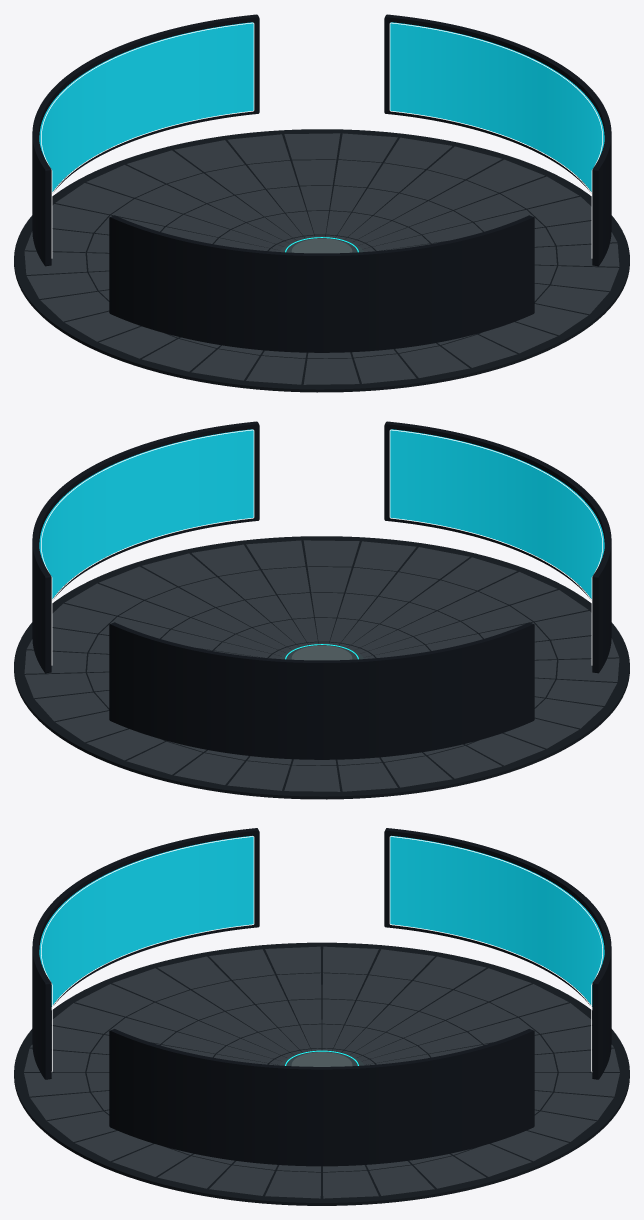
The model's file is panoramic_command_theater_architecture.glb.
The picture shows the model from 3 angles, top to bottom: view 1: azimuth 30°, elevation 25°; view 2: azimuth 150°, elevation 25°; view 3: azimuth 270°, elevation 25°; orthographic projection.
Parts seen in each view (by area): view 1: Wall_Screen_3_Frame, Wall_Screen_1, Wall_Screen_2, Room_Floor_Base, Wall_Screen_1_Frame, Wall_Screen_2_Frame, Floor_Tile_R04_S21, Floor_Tile_R04_S05, Floor_Tile_R04_S28, Floor_Tile_R04_S01, Floor_Tile_R04_S09, Floor_Tile_R04_S10 (+53 smaller); view 2: Wall_Screen_2_Frame, Wall_Screen_1, Wall_Screen_3, Room_Floor_Base, Wall_Screen_1_Frame, Wall_Screen_3_Frame, Floor_Tile_R04_S10, Floor_Tile_R04_S26, Floor_Tile_R04_S03, Floor_Tile_R04_S04, Floor_Tile_R04_S17, Floor_Tile_R04_S21 (+53 smaller); view 3: Wall_Screen_1_Frame, Wall_Screen_2, Wall_Screen_3, Room_Floor_Base, Wall_Screen_2_Frame, Wall_Screen_3_Frame, Floor_Tile_R04_S06, Floor_Tile_R04_S11, Floor_Tile_R04_S20, Floor_Tile_R04_S25, Floor_Tile_R04_S03, Floor_Tile_R04_S28 (+53 smaller).
Boxes of the visible parts, bbox=[...] form: Wall_Screen_3_Frame: bbox=[109, 215, 534, 352]; Wall_Screen_1: bbox=[390, 22, 604, 191]; Wall_Screen_2: bbox=[39, 22, 253, 191]; Room_Floor_Base: bbox=[14, 129, 629, 392]; Wall_Screen_1_Frame: bbox=[384, 14, 611, 266]; Wall_Screen_2_Frame: bbox=[32, 14, 259, 266]; Floor_Tile_R04_S21: bbox=[303, 358, 359, 384]; Floor_Tile_R04_S05: bbox=[284, 133, 340, 159]; Floor_Tile_R04_S28: bbox=[551, 266, 618, 291]; Floor_Tile_R04_S01: bbox=[467, 159, 544, 192]; Floor_Tile_R04_S09: bbox=[87, 165, 164, 197]; Floor_Tile_R04_S10: bbox=[55, 183, 132, 214]; Wall_Screen_2_Frame: bbox=[109, 622, 534, 759]; Wall_Screen_1: bbox=[39, 429, 253, 598]; Wall_Screen_3: bbox=[390, 429, 604, 598]; Room_Floor_Base: bbox=[14, 536, 629, 799]; Wall_Screen_1_Frame: bbox=[32, 421, 259, 673]; Wall_Screen_3_Frame: bbox=[384, 421, 611, 673]; Floor_Tile_R04_S10: bbox=[284, 765, 340, 791]; Floor_Tile_R04_S26: bbox=[303, 540, 359, 566]; Floor_Tile_R04_S03: bbox=[25, 673, 92, 698]; Floor_Tile_R04_S04: bbox=[35, 692, 108, 721]; Floor_Tile_R04_S17: bbox=[547, 679, 616, 705]; Floor_Tile_R04_S21: bbox=[511, 590, 588, 621]; Wall_Screen_1_Frame: bbox=[109, 1029, 534, 1166]; Wall_Screen_2: bbox=[390, 835, 604, 1006]; Wall_Screen_3: bbox=[39, 835, 253, 1006]; Room_Floor_Base: bbox=[14, 942, 629, 1205]; Wall_Screen_2_Frame: bbox=[384, 828, 611, 1079]; Wall_Screen_3_Frame: bbox=[32, 828, 259, 1079]; Floor_Tile_R04_S06: bbox=[541, 1092, 613, 1120]; Floor_Tile_R04_S11: bbox=[490, 984, 568, 1016]; Floor_Tile_R04_S20: bbox=[75, 984, 153, 1016]; Floor_Tile_R04_S25: bbox=[30, 1092, 102, 1120]; Floor_Tile_R04_S03: bbox=[454, 1144, 531, 1176]; Floor_Tile_R04_S28: bbox=[112, 1144, 189, 1176].
Size of the model in its own units: 45 by 10.36 by 45.
